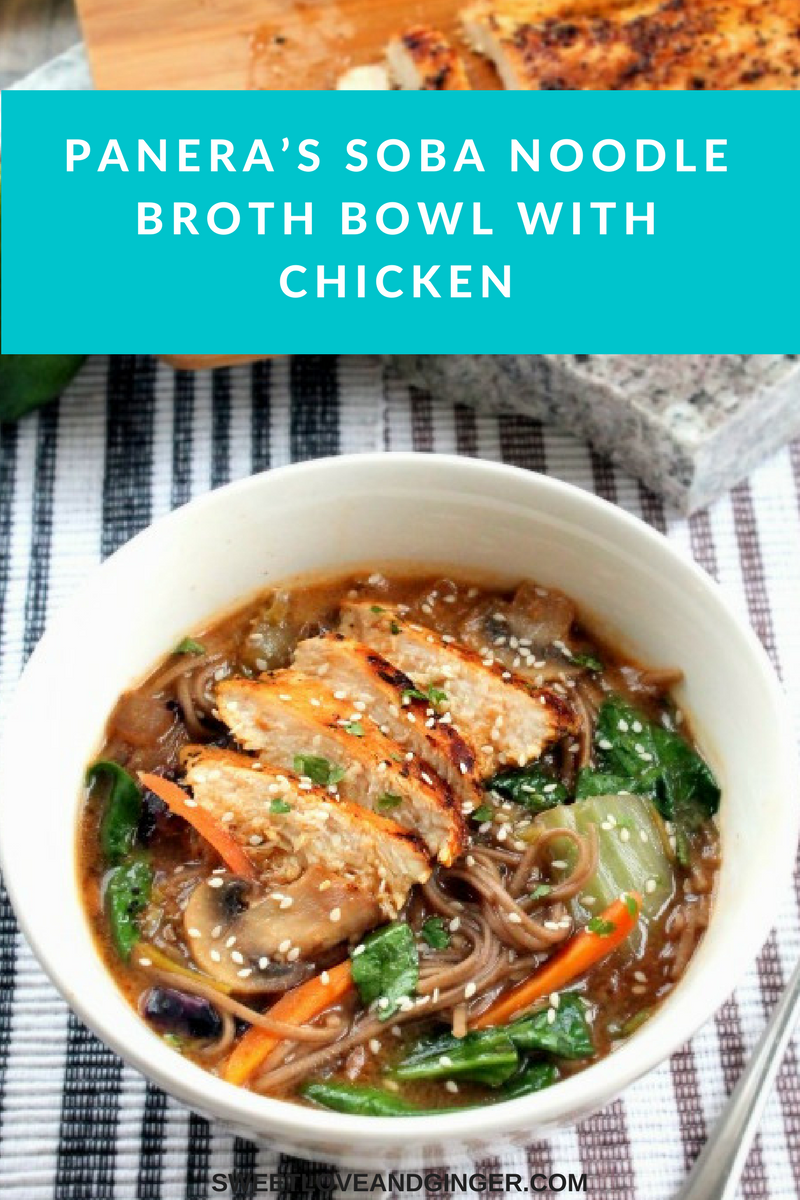Soba: (87, 814, 720, 1109)
